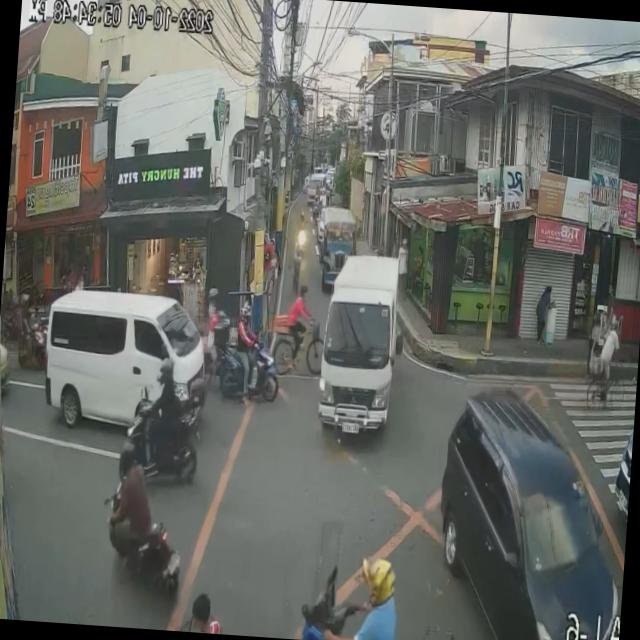half: (360, 555, 398, 606), (156, 355, 175, 389), (240, 304, 252, 323)
